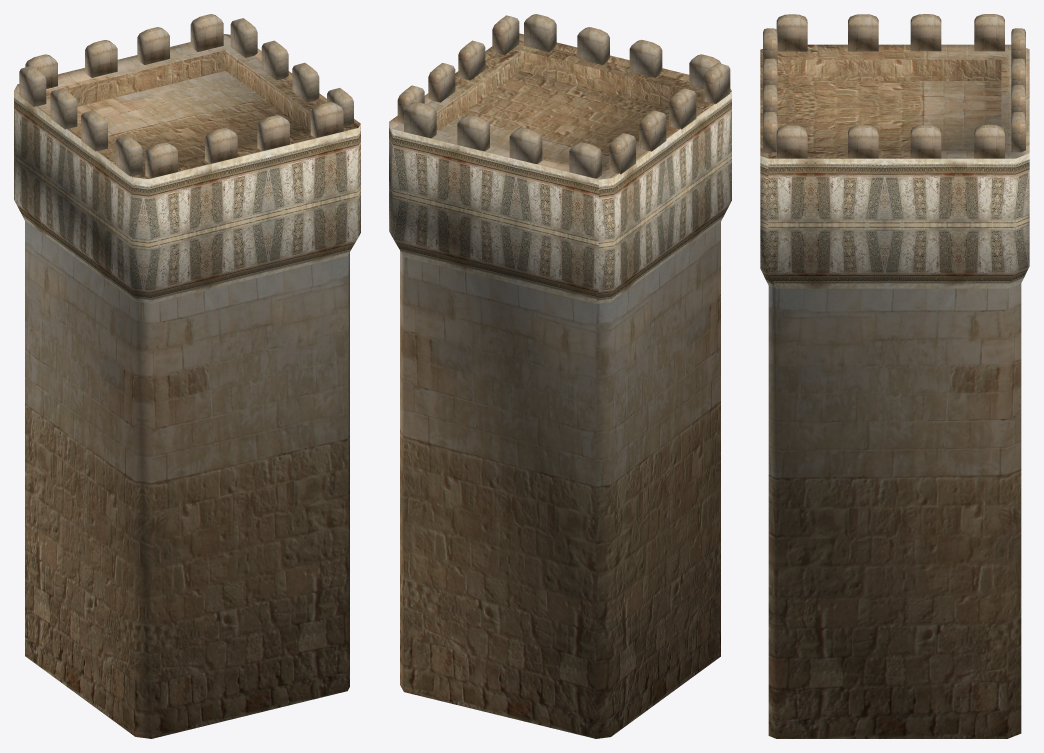
Rendered from main_tower.fbx.
The picture shows the model from 3 angles, left to right: view 1: azimuth 30°, elevation 25°; view 2: azimuth 150°, elevation 25°; view 3: azimuth 270°, elevation 25°; orthographic projection. The views are drawn at different scales.
Parts seen in each view (by area): view 1: U3DMesh; view 2: U3DMesh; view 3: U3DMesh.
Part boxes in pixels (x1=…): U3DMesh: x1=14, y1=14, x2=360, y2=738; U3DMesh: x1=389, y1=14, x2=731, y2=738; U3DMesh: x1=760, y1=14, x2=1029, y2=738.
Bounding box in the file's own units: 145 × 364 × 144.
